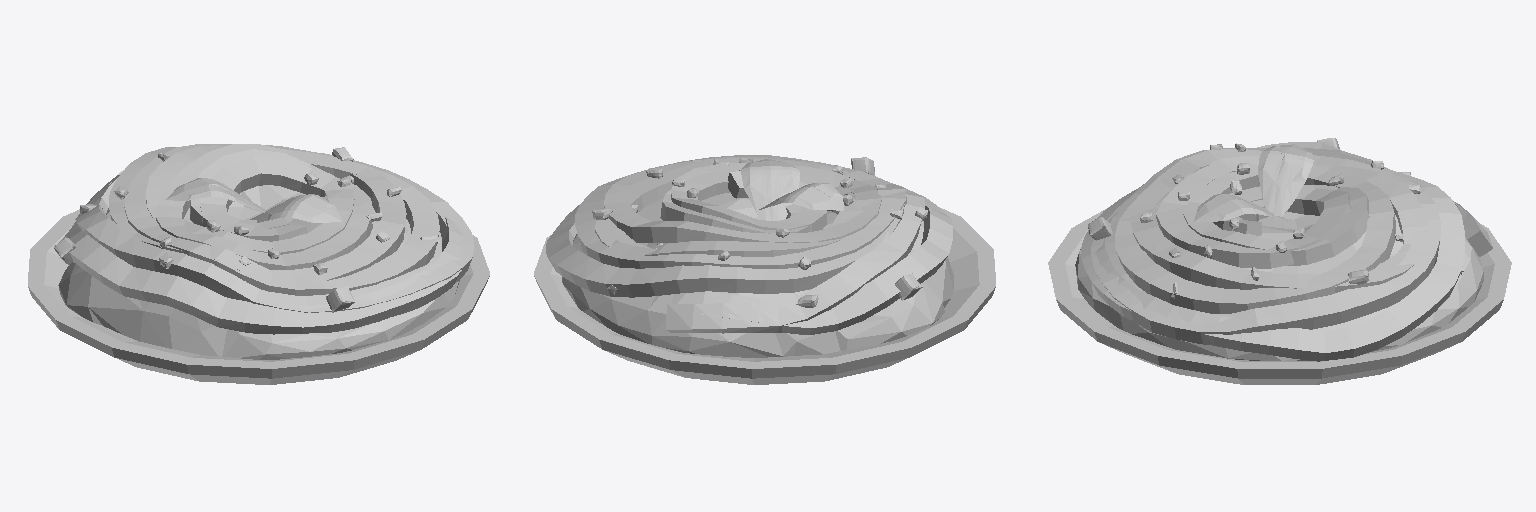
Rendered from Amatriciana_senzapiatto.obj.
The picture shows the model from 3 angles: view 1: azimuth 30°, elevation 25°; view 2: azimuth 150°, elevation 25°; view 3: azimuth 270°, elevation 25°; orthographic projection.
Parts seen in each view (by area): view 1: obj2, obj3, obj1, obj0, obj4, obj5; view 2: obj2, obj3, obj1, obj0, obj4, obj5; view 3: obj2, obj3, obj1, obj0, obj4, obj5.
Boxes of the visible parts, box(x1,y1,x2,y2) form: obj2: box(75, 144, 473, 312); obj3: box(63, 145, 463, 334); obj1: box(28, 209, 489, 384); obj0: box(58, 185, 459, 359); obj4: box(166, 178, 342, 222); obj5: box(54, 147, 439, 312); obj2: box(575, 155, 924, 333); obj3: box(546, 157, 952, 334); obj1: box(534, 207, 995, 384); obj0: box(562, 193, 953, 357); obj4: box(741, 159, 843, 220); obj5: box(592, 157, 927, 307); obj2: box(1091, 148, 1492, 344); obj3: box(1081, 142, 1467, 361); obj1: box(1048, 207, 1511, 384); obj0: box(1075, 212, 1483, 360); obj4: box(1194, 144, 1313, 221); obj5: box(1088, 138, 1463, 298).
Size of the model in its own units: 0.4923 by 0.1907 by 0.4944.